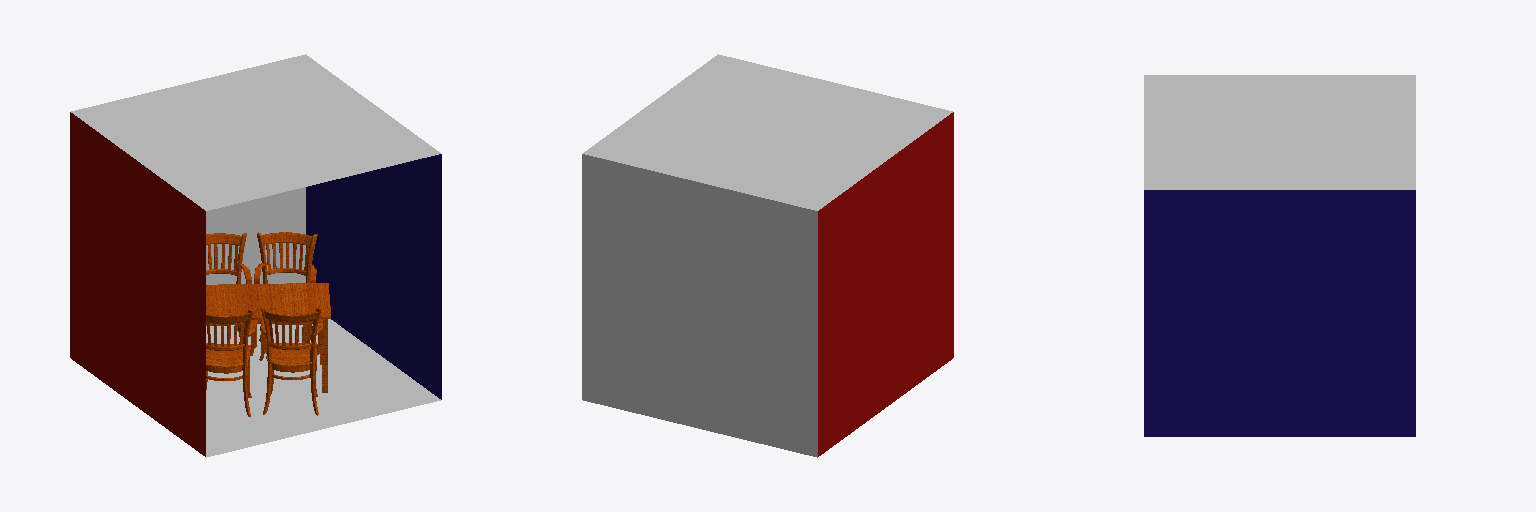
3 views of the same model, side by side, from view 1: azimuth 30°, elevation 25°; view 2: azimuth 150°, elevation 25°; view 3: azimuth 270°, elevation 25° (orthographic).
Parts seen in each view (by area): view 1: default; view 2: default; view 3: default.
Boxes of the visible parts, <box> form: default: <box>70,54,441,457</box>; default: <box>582,54,953,457</box>; default: <box>1144,75,1415,436</box>.
Bounding box in the file's own units: 2 × 2 × 2.
Materials: 7 (1 with a texture image).